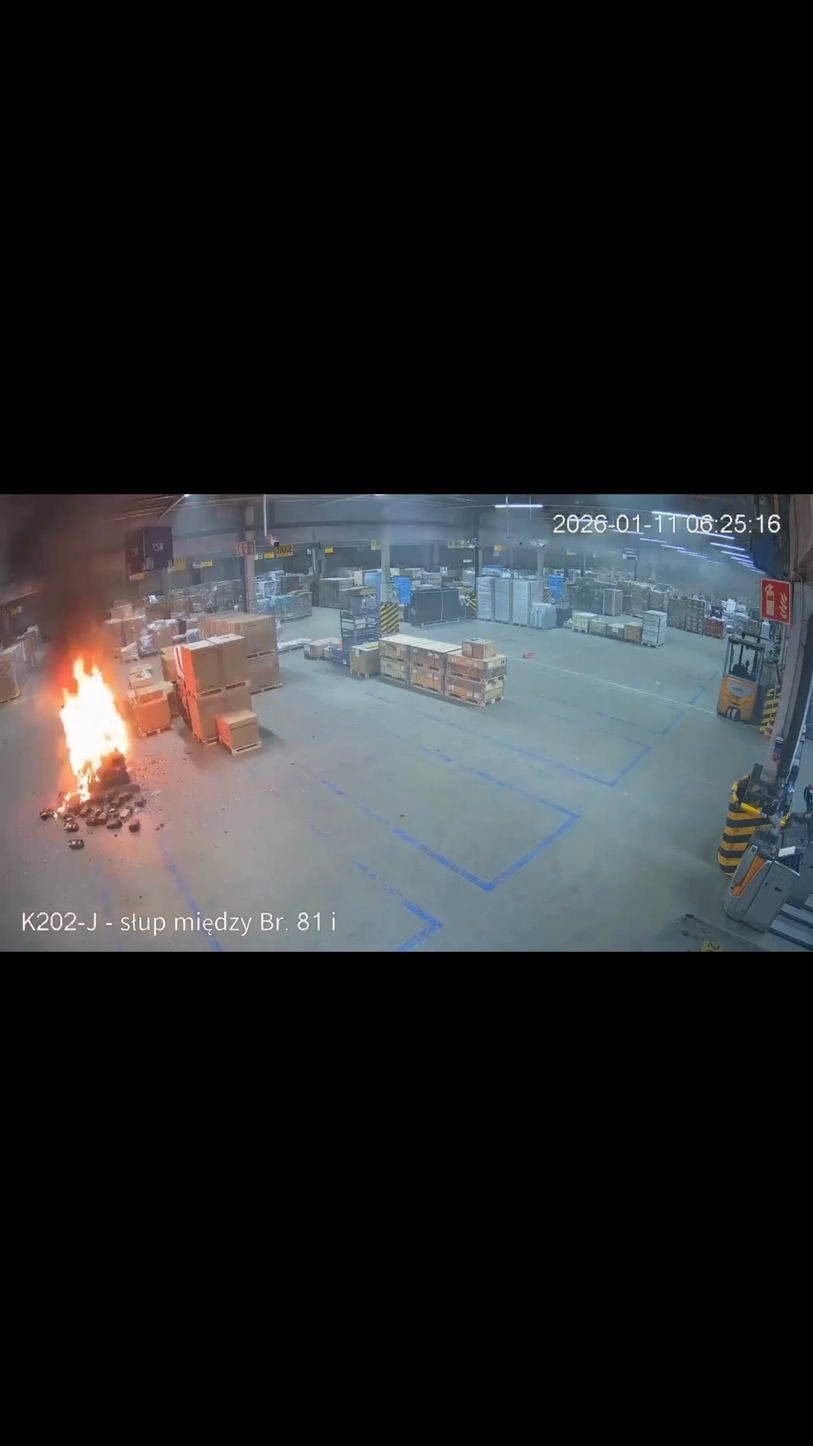fire: (56, 652, 133, 808)
smoke: (0, 495, 165, 700)
